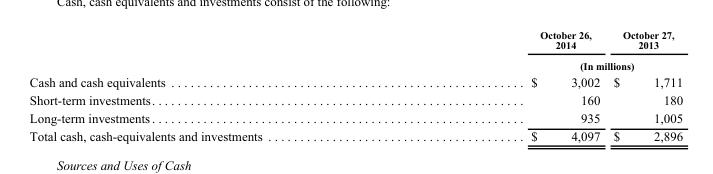table: (28, 28, 682, 143)
table column: (28, 28, 395, 143), (395, 28, 606, 143), (606, 28, 682, 143)
table column header: (28, 28, 682, 72)
table row: (28, 28, 682, 54), (28, 90, 682, 109), (28, 54, 682, 72), (28, 72, 682, 90), (28, 109, 682, 127), (28, 127, 682, 143)
table spanning cell: (395, 54, 682, 72)
